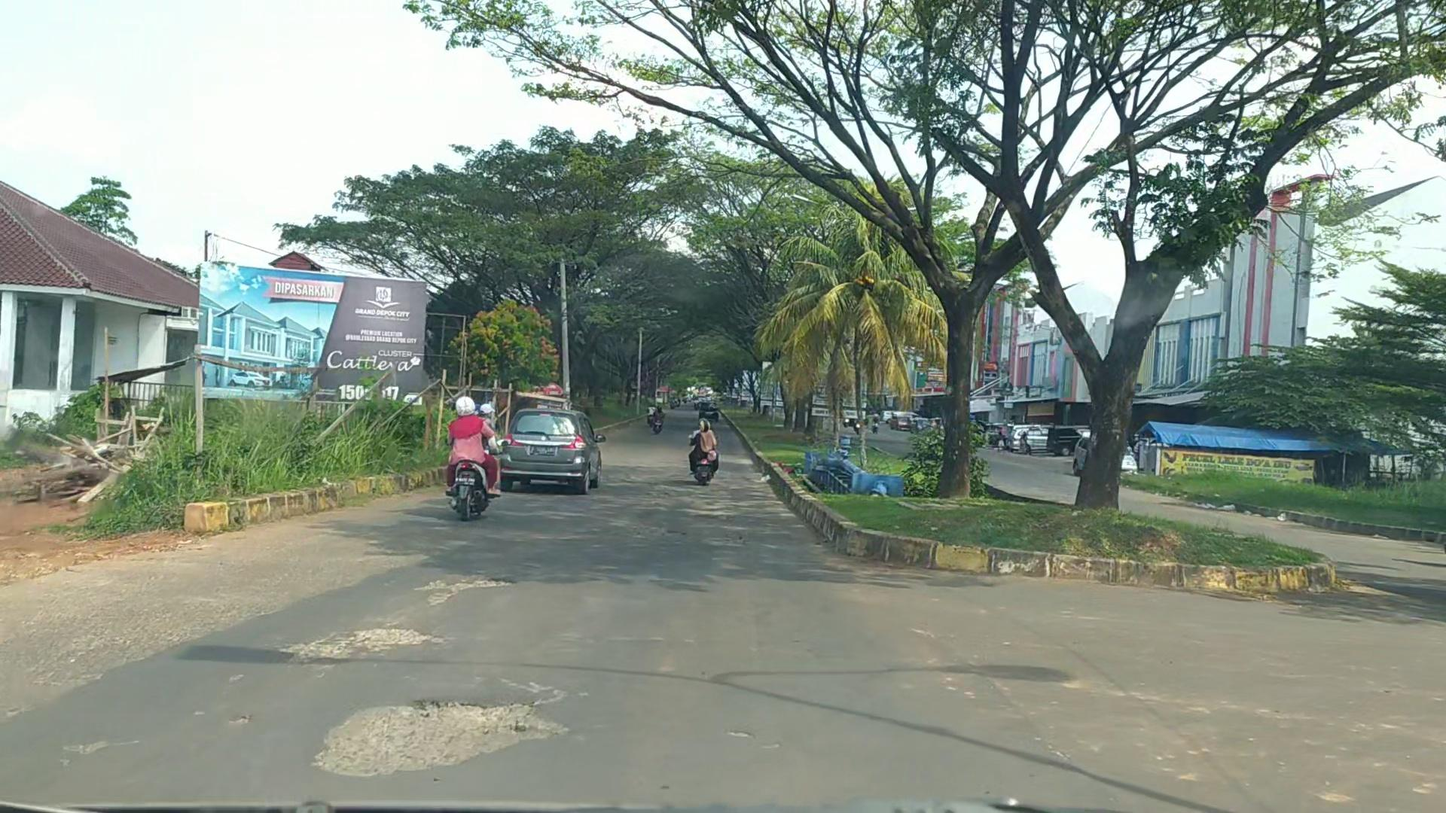pothole: (304, 703, 560, 770), (299, 625, 428, 661), (425, 578, 513, 601)
